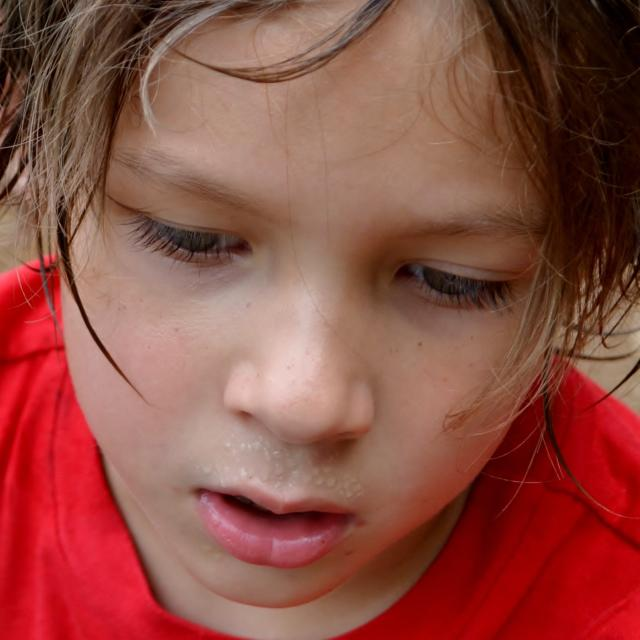Depress: (54, 0, 580, 608)
